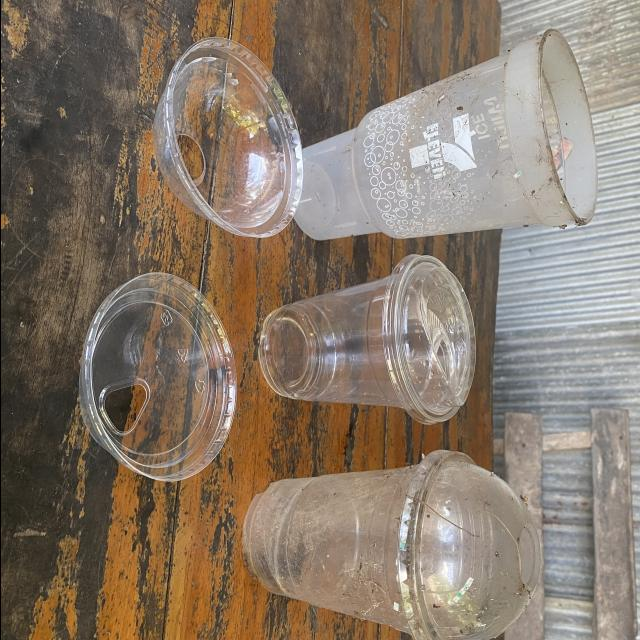plastik: (294, 30, 596, 240), (242, 450, 539, 640), (258, 255, 474, 424), (79, 273, 236, 481), (153, 37, 302, 238)
